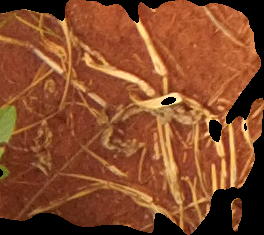soil: (1, 2, 261, 231)
